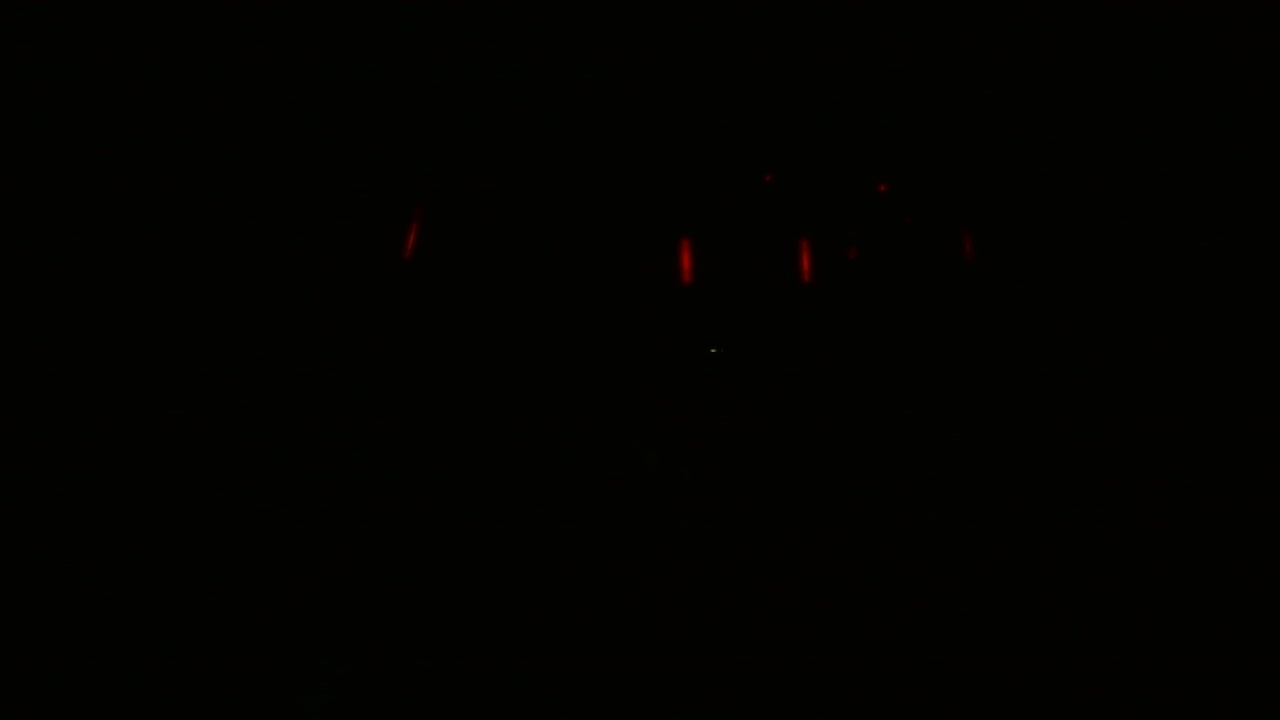pair1: (674, 233, 816, 284)
